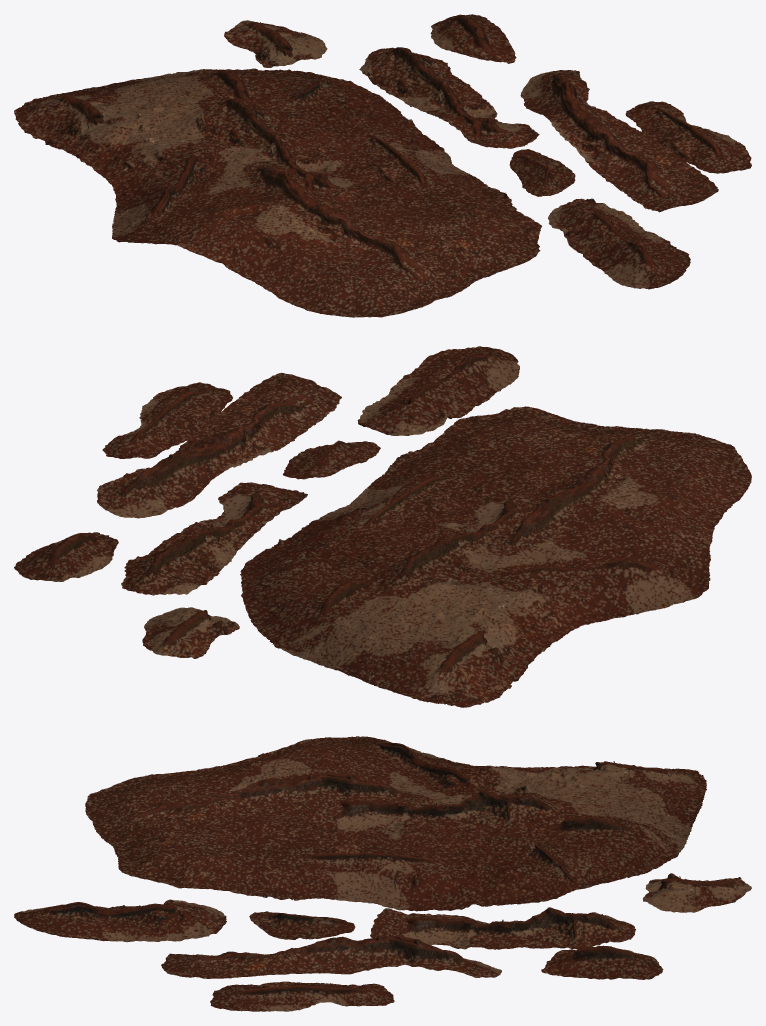
File: root_cluster_02_2k.gltf
3 renders of one model, top to bottom at view 1: azimuth 30°, elevation 25°; view 2: azimuth 150°, elevation 25°; view 3: azimuth 270°, elevation 25°, orthographic. The views are drawn at different scales.
Parts seen in each view (by area): view 1: root_cluster_02_a, root_cluster_02_f, root_cluster_02_d, root_cluster_02_b, root_cluster_02_g, root_cluster_02_e, root_cluster_02_h, root_cluster_02_c; view 2: root_cluster_02_a, root_cluster_02_f, root_cluster_02_d, root_cluster_02_b, root_cluster_02_g, root_cluster_02_h, root_cluster_02_e, root_cluster_02_c; view 3: root_cluster_02_a, root_cluster_02_f, root_cluster_02_d, root_cluster_02_b, root_cluster_02_g, root_cluster_02_h, root_cluster_02_e, root_cluster_02_c.
Part boxes in pixels (box(x1,y1,x2,y2)): root_cluster_02_a: box(14, 68, 541, 317); root_cluster_02_f: box(520, 70, 718, 212); root_cluster_02_d: box(359, 47, 539, 148); root_cluster_02_b: box(548, 198, 690, 289); root_cluster_02_g: box(625, 101, 751, 173); root_cluster_02_e: box(224, 20, 327, 67); root_cluster_02_h: box(430, 14, 516, 63); root_cluster_02_c: box(509, 149, 575, 196); root_cluster_02_a: box(240, 406, 751, 707); root_cluster_02_f: box(97, 372, 341, 518); root_cluster_02_d: box(121, 482, 307, 595); root_cluster_02_b: box(357, 346, 519, 435); root_cluster_02_g: box(102, 382, 232, 458); root_cluster_02_h: box(14, 532, 118, 581); root_cluster_02_e: box(142, 607, 239, 658); root_cluster_02_c: box(283, 440, 380, 479); root_cluster_02_a: box(85, 736, 706, 911); root_cluster_02_f: box(161, 934, 501, 978); root_cluster_02_d: box(370, 907, 635, 949); root_cluster_02_b: box(14, 899, 226, 942); root_cluster_02_g: box(210, 981, 394, 1011); root_cluster_02_h: box(541, 945, 663, 979); root_cluster_02_e: box(643, 873, 751, 912); root_cluster_02_c: box(249, 911, 355, 939).
Bounding box in the file's own units: 2.38 × 0.1986 × 2.71.
